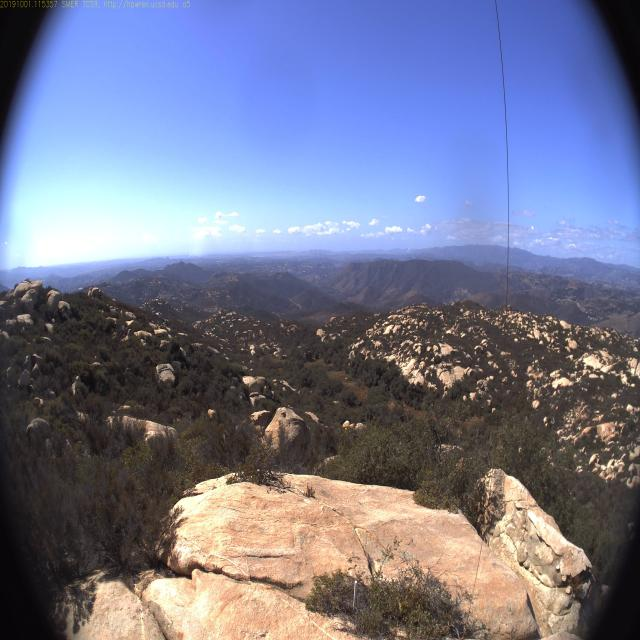smoke: (182, 240, 205, 260)
